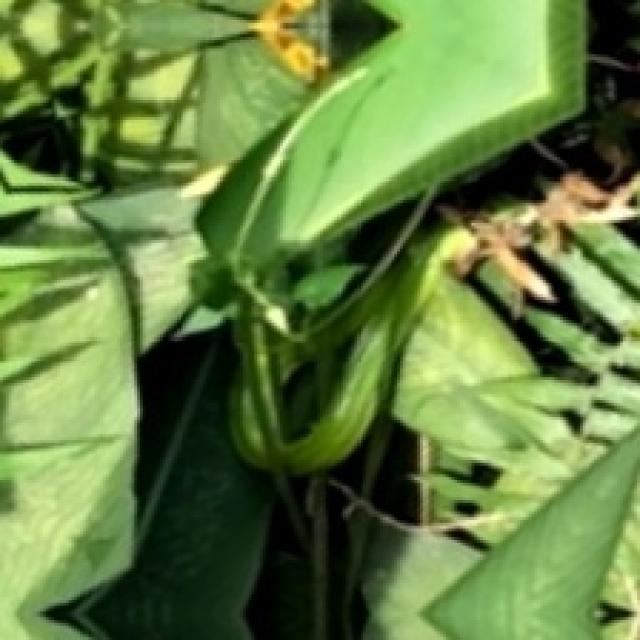red-tailed green ratsnake: (236, 229, 458, 473)
